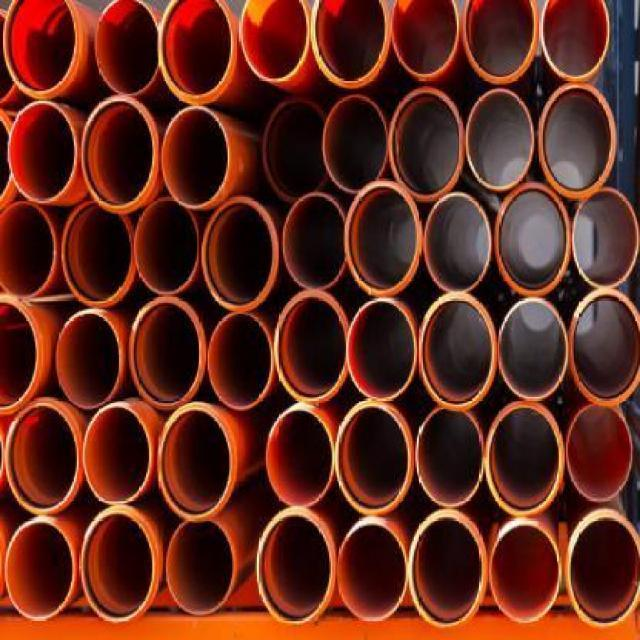pipe: (418, 294, 497, 413), (537, 82, 617, 199), (486, 400, 565, 516), (410, 514, 488, 630), (345, 180, 422, 297), (388, 86, 465, 203), (82, 97, 159, 213), (495, 181, 571, 297), (5, 400, 82, 514), (80, 508, 157, 621), (257, 511, 333, 625), (336, 403, 414, 514), (201, 198, 277, 311), (157, 408, 232, 522), (130, 298, 205, 411), (569, 289, 640, 408), (274, 291, 350, 399), (568, 515, 640, 627), (159, 0, 233, 105), (60, 202, 133, 307), (346, 299, 417, 402), (309, 0, 391, 89), (465, 88, 534, 191), (499, 298, 568, 400), (3, 0, 77, 95), (489, 523, 560, 622), (8, 100, 76, 203), (416, 406, 485, 506), (422, 194, 491, 293), (5, 522, 74, 621), (160, 108, 228, 208), (460, 0, 540, 85), (83, 405, 151, 505), (571, 189, 639, 288), (322, 95, 390, 194), (337, 523, 406, 620), (263, 97, 326, 203), (166, 520, 234, 617), (56, 313, 122, 411), (266, 410, 334, 505), (134, 197, 200, 294), (566, 405, 632, 502), (283, 194, 348, 290), (208, 313, 271, 411), (95, 0, 160, 94), (240, 0, 309, 83), (540, 0, 609, 82), (0, 201, 56, 298), (391, 0, 460, 78), (0, 299, 43, 413)
